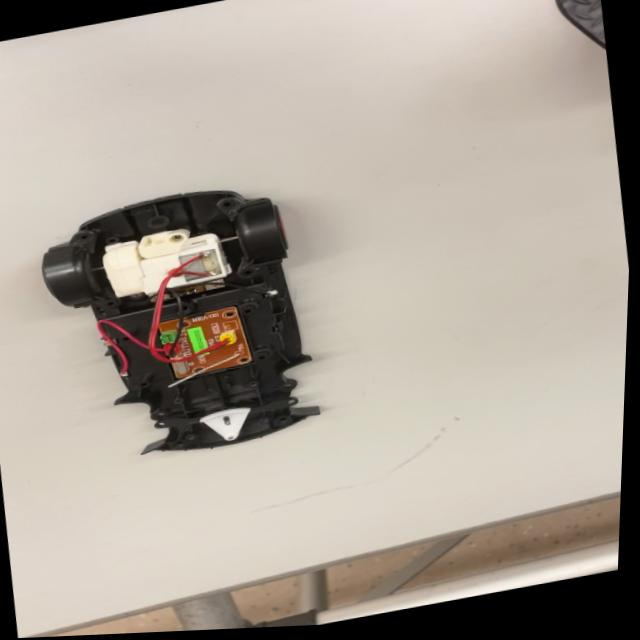Chassis: (43, 172, 339, 479)
